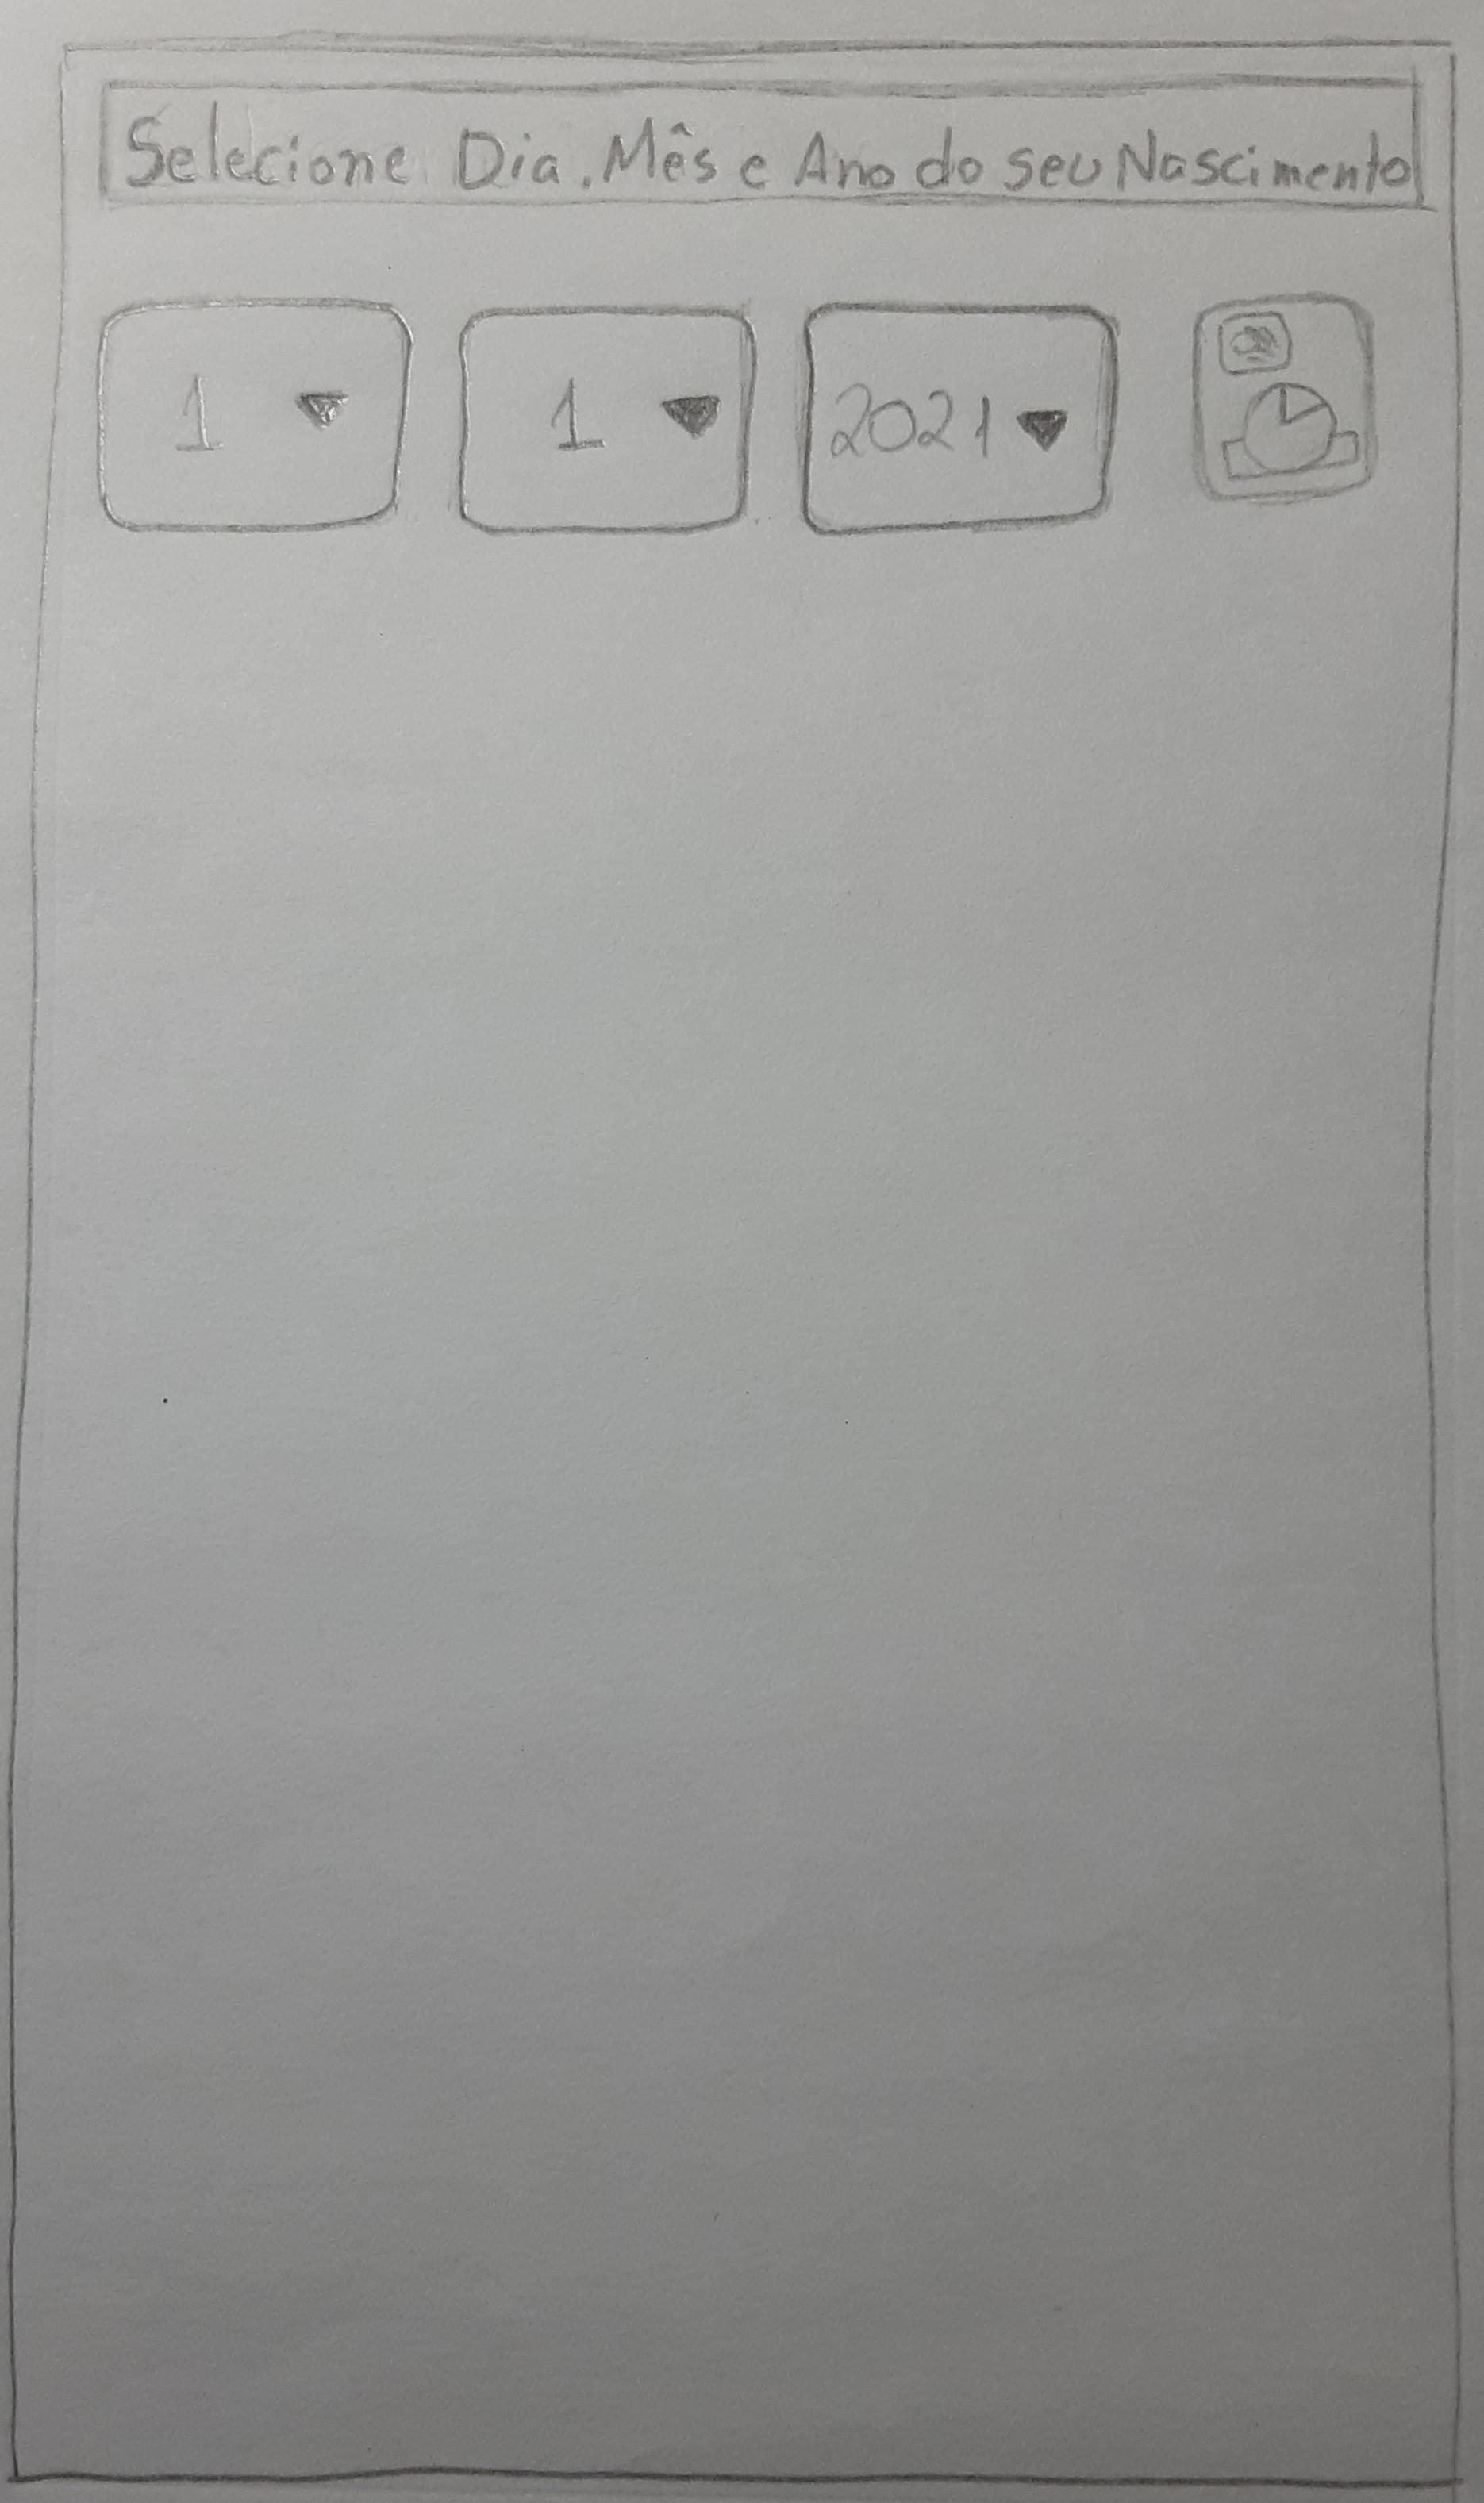Button: (92, 74, 1426, 210)
Image: (1187, 293, 1382, 503)
ListPicker: (97, 299, 412, 539), (800, 306, 1118, 535), (458, 307, 760, 539)
Screen: (9, 37, 1465, 2484)
